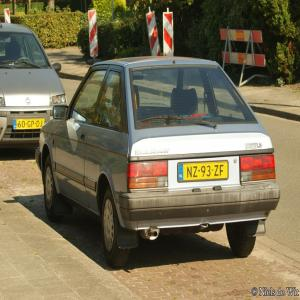Vehicle-registration-plate: (180, 163, 229, 181), (15, 118, 45, 132)
